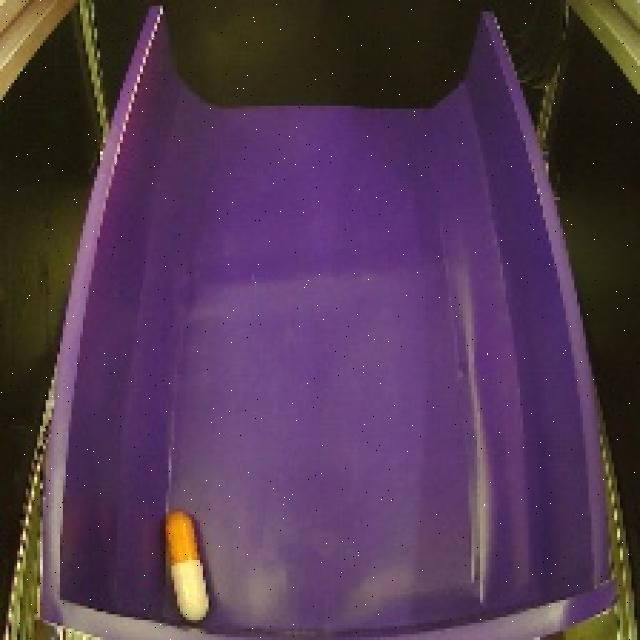small: (156, 506, 219, 625)
